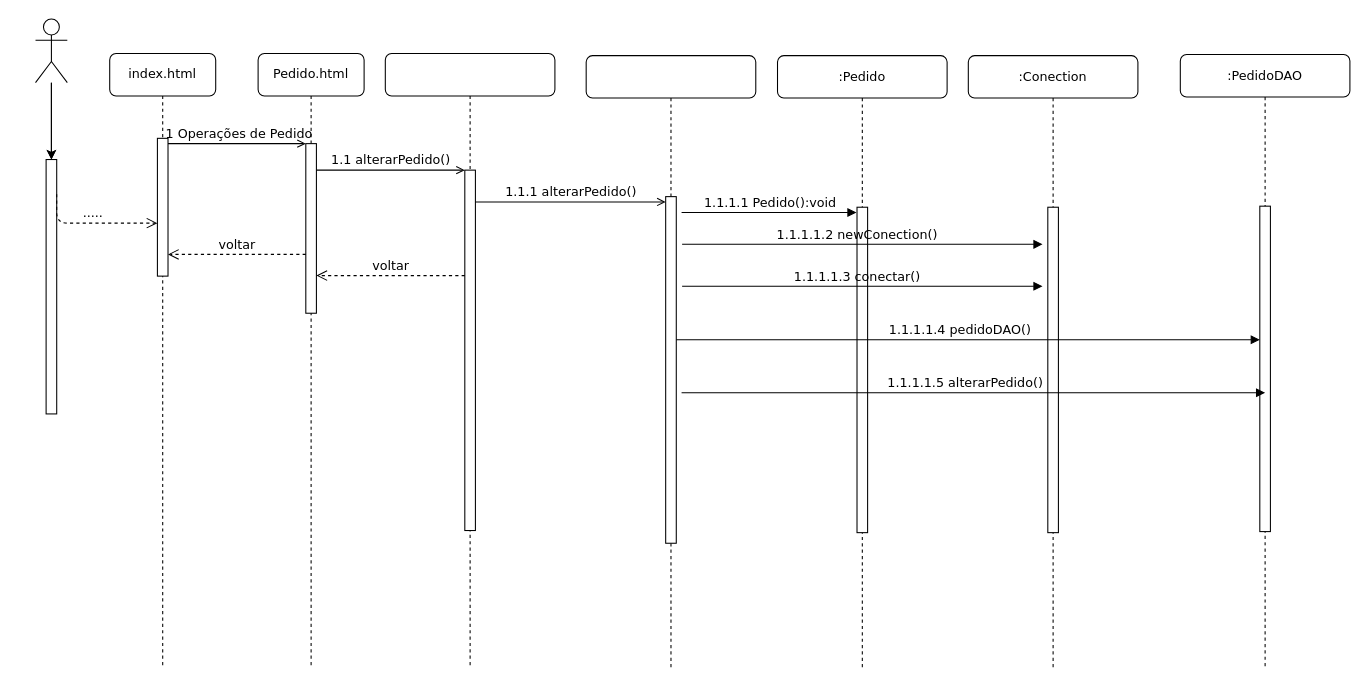
Image size: 1368x687. Some labels were removed from this diagram. Here are the shapes that lost their labels. From the top down, the box of each, then its label:
(34, 18, 67, 83): Funcionario
(384, 52, 555, 666): AlterarPedido.html
(585, 55, 756, 668): C_ Alterar Pedido.php
